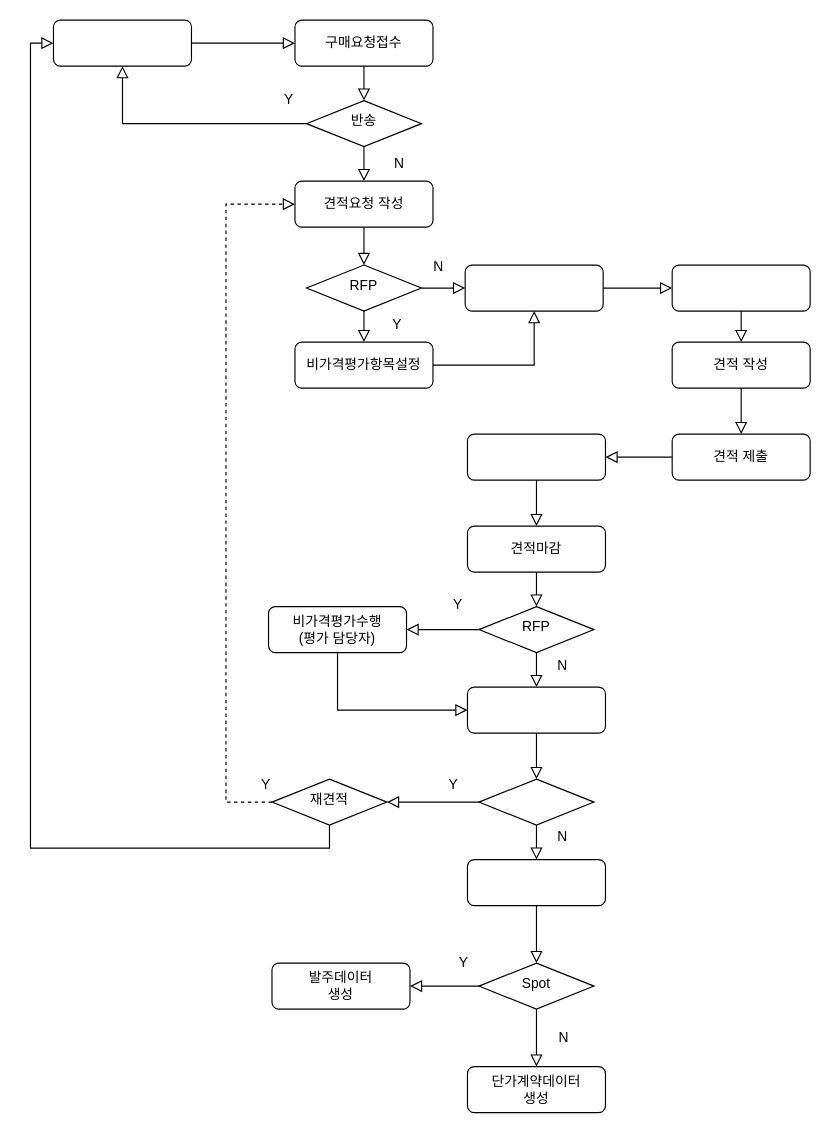
Image size: 830x1133. Some labels were removed from this diagram. The shapes that lost their labels are listed below. From the top down, each one's centre as x and y in pixels, then its label:
At point 121,42: "구매요청생성".
At point 533,287: "견적요청".
At point 740,287: "견적요청 접수".
At point 535,456: "RFx 현황".
At point 535,709: "견적비교".
At point 536,801: "유찰".
At point 535,882: "업체선정".
